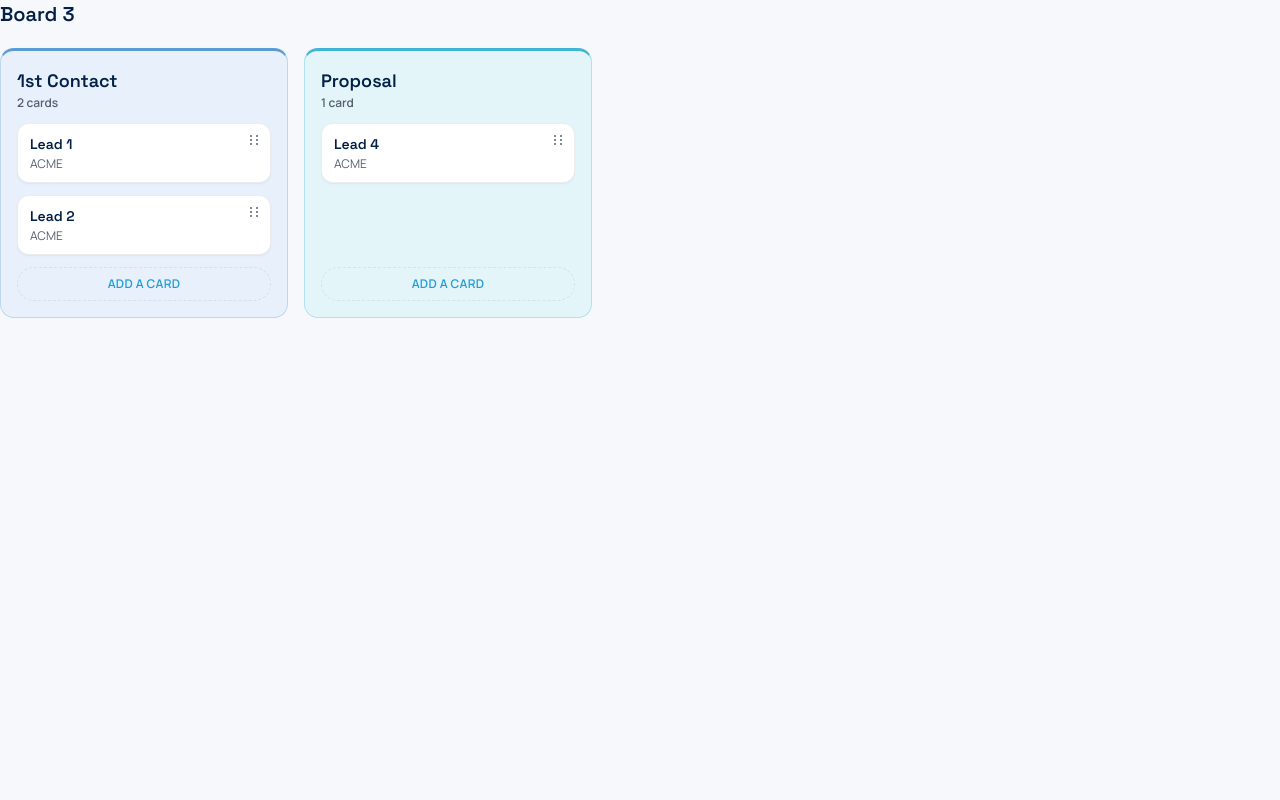
Test case: central card versions (optimistic concurrency in the UI) › delete › keeps the card, explains the conflict, re-reads the board and does not retry
Click the button "Lead 1 ACME": (144, 153) [30,134,258,172]
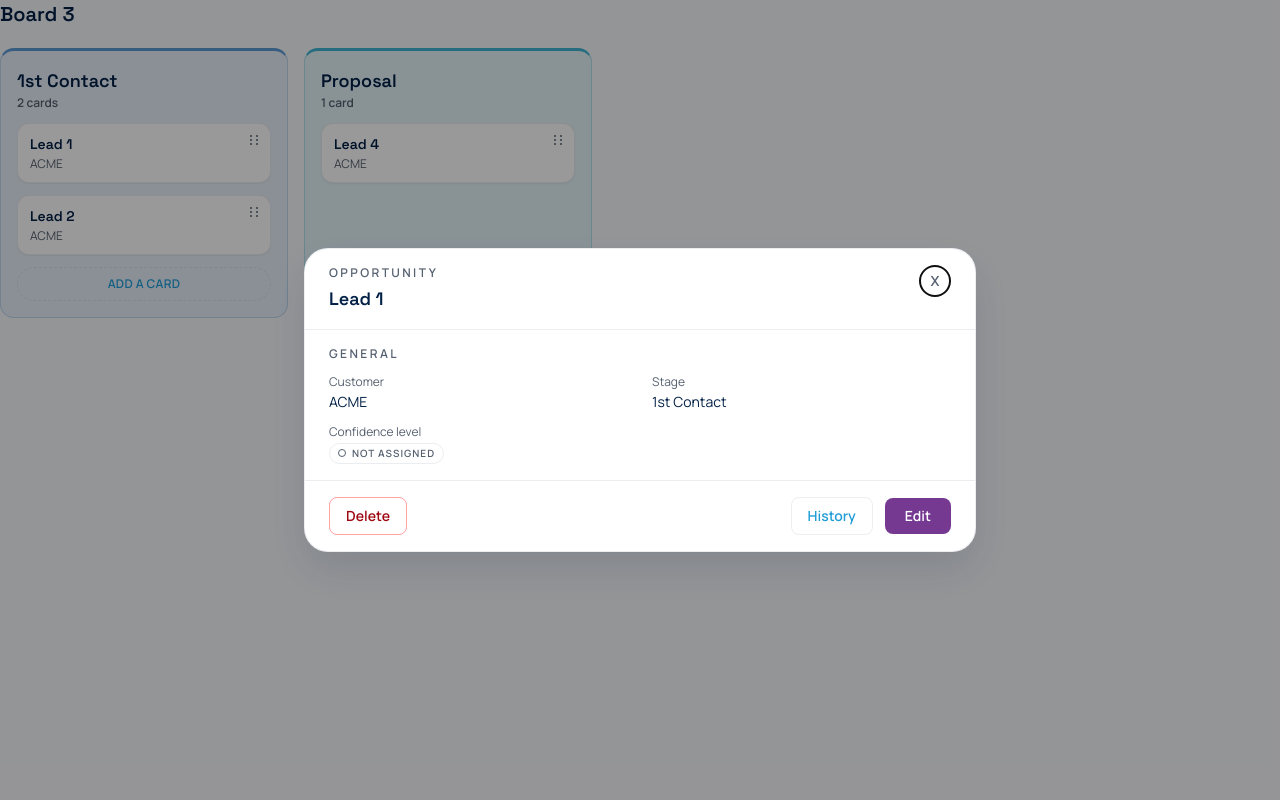
Click the button "Delete": (368, 516) [329,497,407,535]
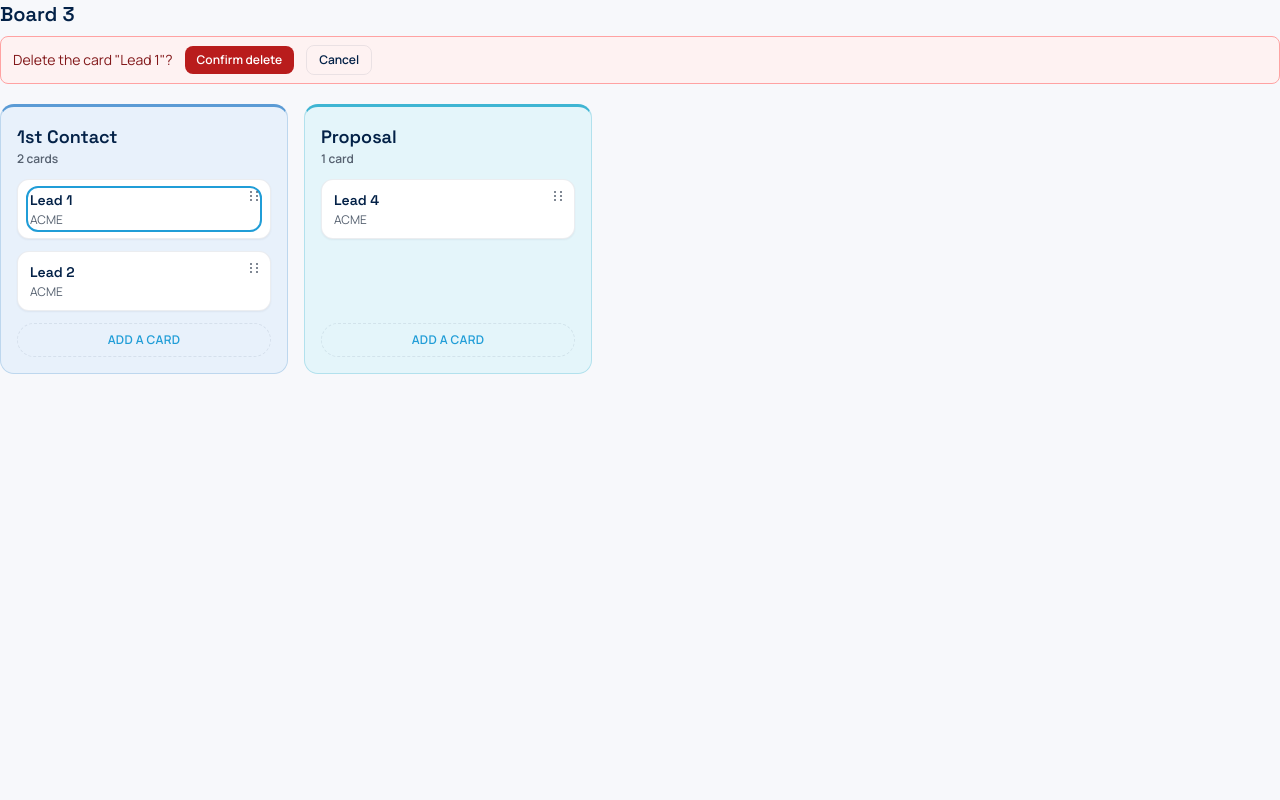
Click the button "Confirm delete": (239, 60) [185,46,294,74]
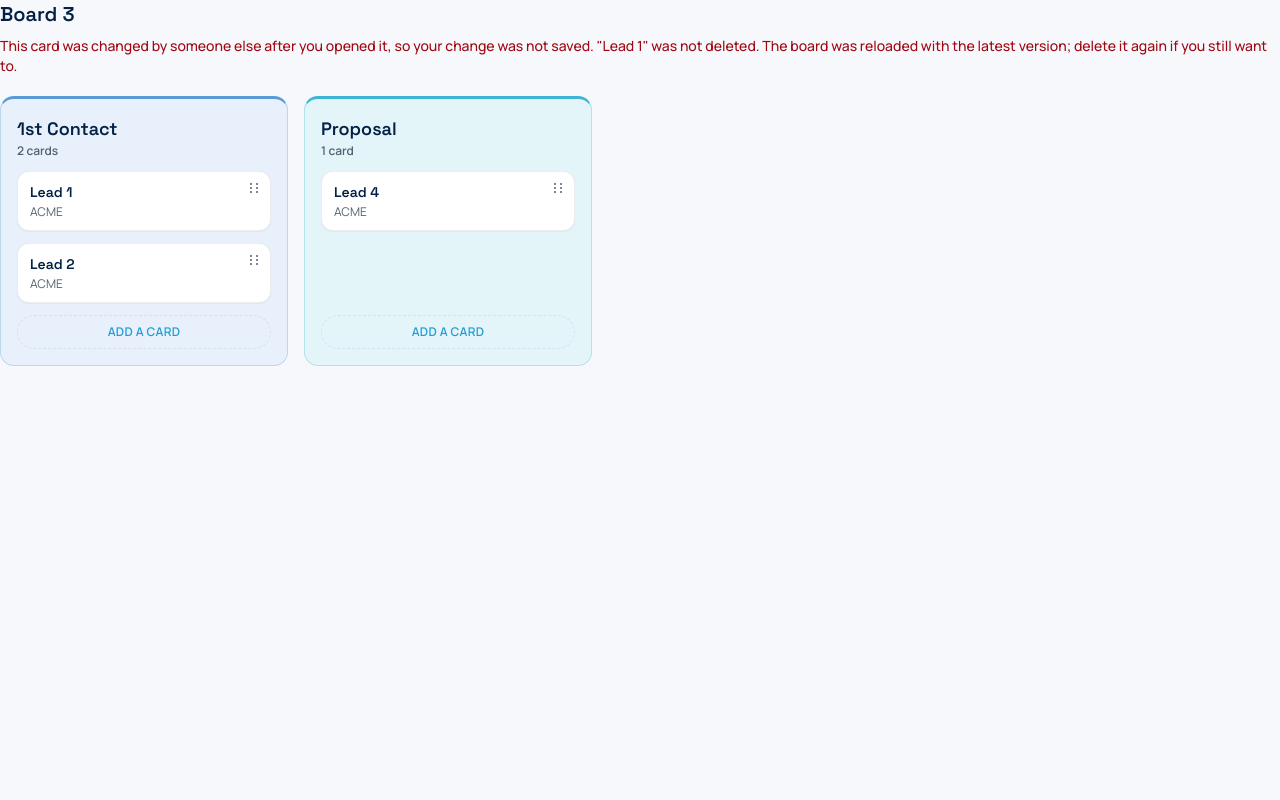
Check: the message shows "Lead 1", box [0,36,1267,75]
Check: the text "changed by someone else" shows "was not deleted", box [0,36,1267,75]
